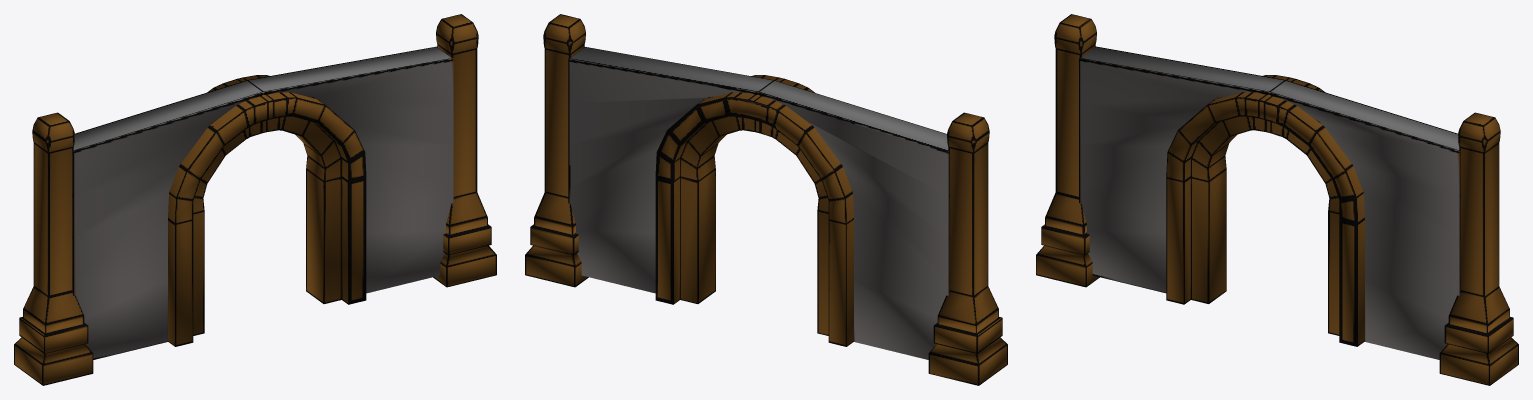
Rendered from Gates.fbx.
The picture shows the model from 3 angles, left to right: view 1: azimuth 30°, elevation 25°; view 2: azimuth 150°, elevation 25°; view 3: azimuth 330°, elevation 25°; orthographic projection.
Visible parts, largest first — view 1: Archway; view 2: Archway; view 3: Archway.
Boxes of the visible parts, x1,y1,x2,y2 form: Archway: (14, 14, 496, 385); Archway: (525, 14, 1007, 385); Archway: (1036, 14, 1518, 385).
Size of the model in its own units: 73.66 by 8.75 by 38.79.
Materials: 1 (1 with a texture image).
